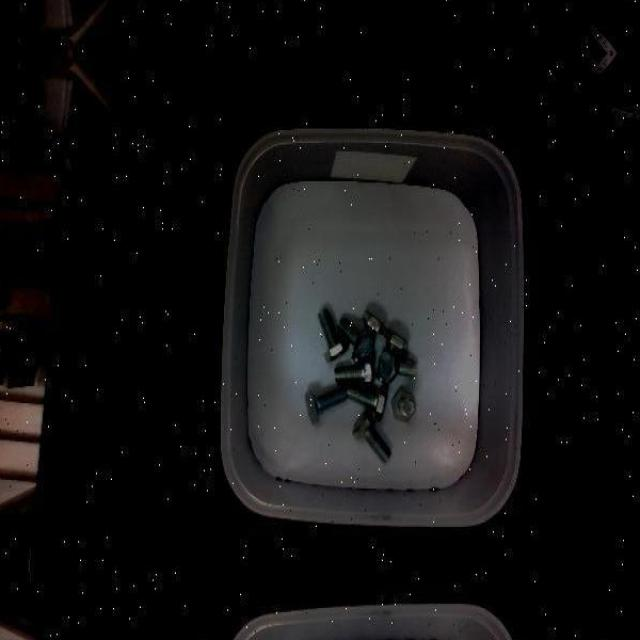screw: (352, 408, 393, 462), (317, 307, 348, 363), (305, 385, 347, 425), (377, 347, 417, 382), (346, 385, 387, 419), (335, 356, 374, 388), (391, 388, 416, 421)
